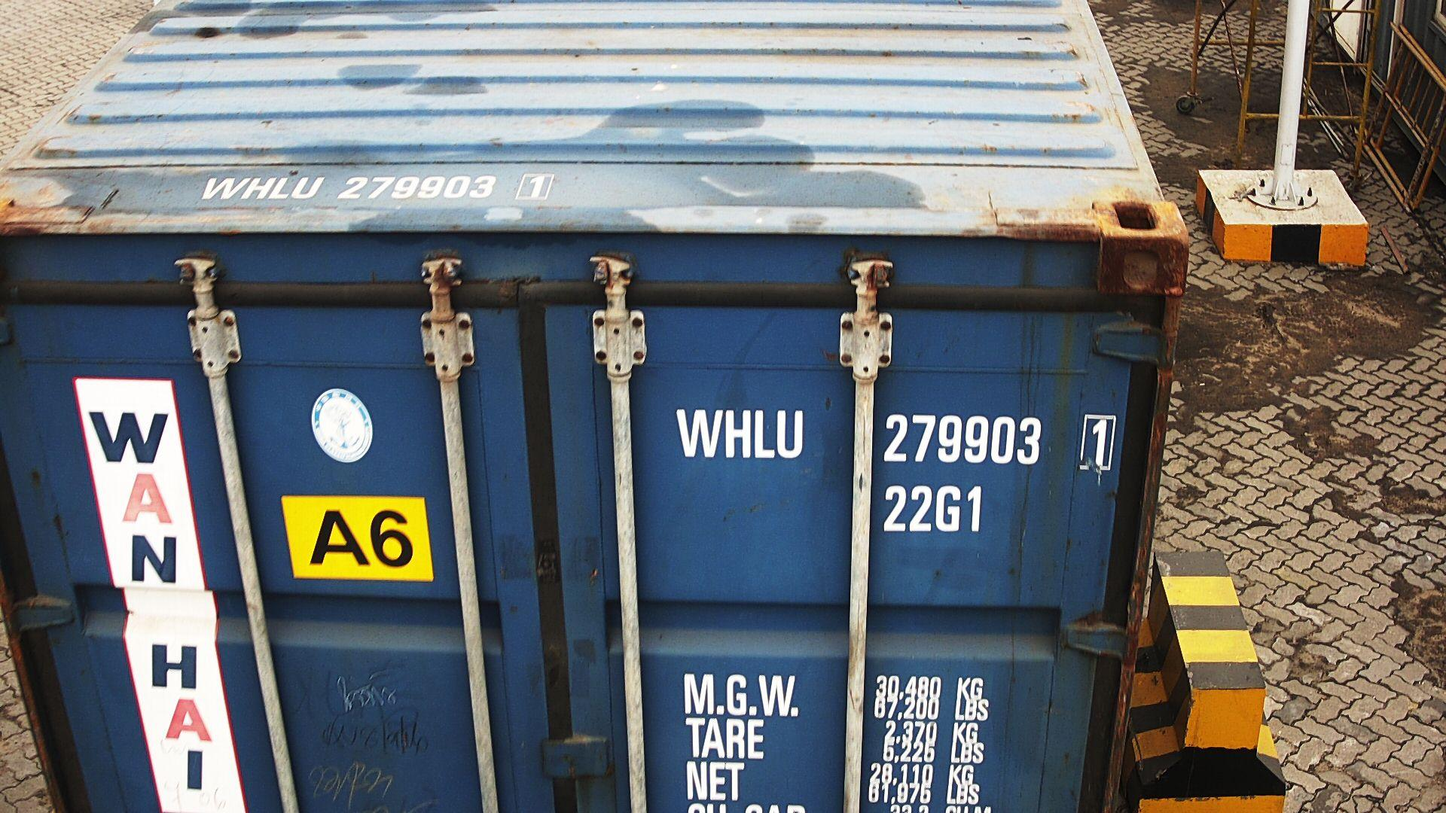container-numbers: (673, 405, 1123, 476), (192, 169, 560, 209), (880, 481, 986, 537)
